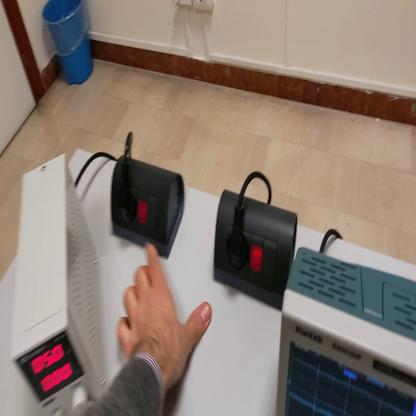hand: (117, 239, 211, 388)
oscilloscope: (274, 241, 416, 415)
power supply: (13, 151, 107, 416)
socket: (213, 188, 301, 313), (111, 158, 186, 264)
